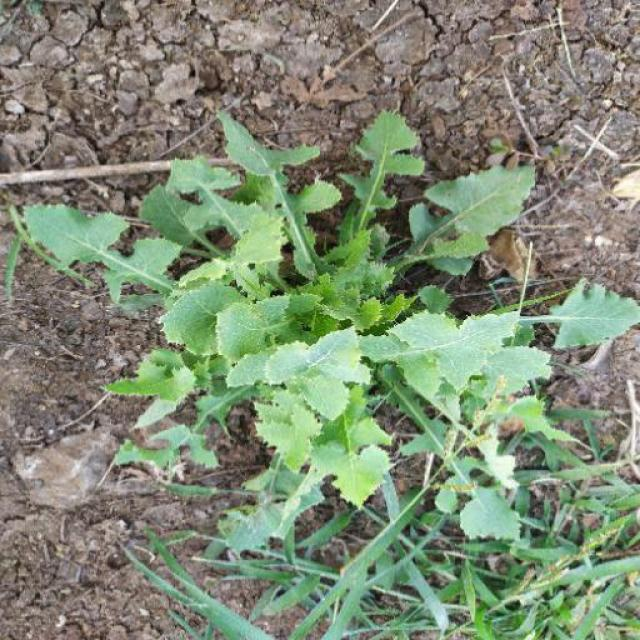weed: (40, 116, 640, 550)
